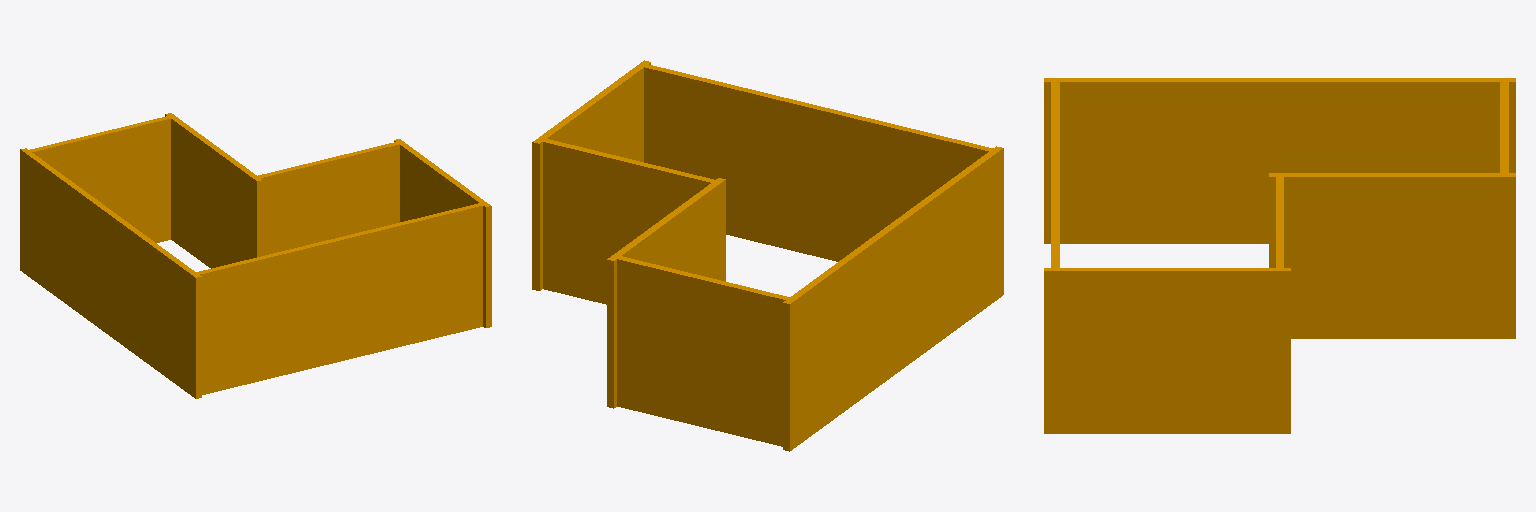
URDF robot description (ell.urdf):
<?xml version="0.0" ?>
<robot name="ell.urdf">
  <link name="baseLink">
    <contact>
      <lateral_friction value="0.3"/>
      <rolling_friction value="0.0001"/>
      <inertia_scaling value="3.0"/>
    </contact>
    <inertial>
      <origin rpy="0 0 0" xyz="0 0 0"/>
       <mass value=".1"/>
       <inertia ixx="1" ixy="0" ixz="0" iyy="1" iyz="0" izz="1"/>
    </inertial>

    <visual>
      <origin rpy="0 0 0" xyz="0.025 -0.025 0"/>
      <geometry>
        <box size=".1 .002 .04"/>
      </geometry>
      <material name="gray">
        <!-- <color rgba="0 1 0 1"/> -->
        <color rgba="0.7294117647058823, 0.6901960784313725, 0.6745098039215687 1"/>
      </material>
    </visual>
    <collision>
      <origin rpy="0 0 0" xyz="0.025 -0.025 0"/>
      <geometry>
        <box size=".1 .002 .04"/>
      </geometry>
    </collision>

    <visual>
      <origin rpy="0 0 0" xyz="0 0.075 0"/>
      <geometry>
        <box size=".05 .002 .04"/>
      </geometry>
      <material name="gray">
        <!-- <color rgba="0 1 0 1"/> -->
        <color rgba="0.7294117647058823, 0.6901960784313725, 0.6745098039215687 1"/>
      </material>
    </visual>
    <collision>
      <origin rpy="0 0 0" xyz="0 0.075 0"/>
      <geometry>
        <box size=".05 .002 .04"/>
      </geometry>
    </collision>

    <visual>
      <origin rpy="0 0 0" xyz="0.05 0.025 0"/>
      <geometry>
        <box size=".05 .002 .04"/>
      </geometry>
      <material name="gray">
        <!-- <color rgba="0 1 0 1"/> -->
        <color rgba="0.7294117647058823, 0.6901960784313725, 0.6745098039215687 1"/>
      </material>
    </visual>
    <collision>
      <origin rpy="0 0 0" xyz="0.05 0.025 0"/>
      <geometry>
        <box size=".05 .002 .04"/>
      </geometry>
    </collision>

    <visual>
      <origin rpy="0 0 0" xyz="-0.025 0.025 0"/>
      <geometry>
        <box size=".002 .105 .04"/>
      </geometry>
      <material name="gray">
        <!-- <color rgba="0 1 0 1"/> -->
        <color rgba="0.7294117647058823, 0.6901960784313725, 0.6745098039215687 1"/>
      </material>
    </visual>
    <collision>
      <origin rpy="0 0 0" xyz="-0.025 0.025 0"/>
      <geometry>
        <box size=".002 .105 .04"/>
      </geometry>
    </collision>

    <visual>
      <origin rpy="0 0 0" xyz="0.025 0.05 0"/>
      <geometry>
        <box size=".002 .055 .04"/>
      </geometry>
      <material name="gray">
        <!-- <color rgba="0 1 0 1"/> -->
        <color rgba="0.7294117647058823, 0.6901960784313725, 0.6745098039215687 1"/>
      </material>
    </visual>
    <collision>
      <origin rpy="0 0 0" xyz="0.025 0.05 0"/>
      <geometry>
        <box size=".002 .055 .04"/>
      </geometry>
    </collision>

    <visual>
      <origin rpy="0 0 0" xyz="0.075 0 0"/>
      <geometry>
        <box size=".002 .055 .04"/>
      </geometry>
      <material name="gray">
        <!-- <color rgba="0 1 0 1"/> -->
        <color rgba="0.7294117647058823, 0.6901960784313725, 0.6745098039215687 1"/>
      </material>
    </visual>
    <collision>
      <origin rpy="0 0 0" xyz="0.075 0 0"/>
      <geometry>
        <box size=".002 .055 .04"/>
      </geometry>
    </collision>

    <visual>
      <origin rpy="0 0 0" xyz="0.075 0 0"/>
      <geometry>
        <box size=".002 .055 .04"/>
      </geometry>
      <material name="gray">
        <!-- <color rgba="0 1 0 1"/> -->
        <color rgba="0.7294117647058823, 0.6901960784313725, 0.6745098039215687 1"/>
      </material>
    </visual>

    <collision>
      <origin rpy="0 0 0" xyz="0 0 -0.02"/>
      <geometry>
        <box size=".02 .02 .001"/>
      </geometry>
    </collision>

  </link>
</robot>

--- Render facts (derived) ---
Views: 3 orthographic renders of the robot side by side, from view 1: azimuth 30°, elevation 25°; view 2: azimuth 150°, elevation 25°; view 3: azimuth 270°, elevation 25°.
Model ell.urdf with 1 links and 0 joints (none), rooted at baseLink, posed all joints at 0.
Links seen in each view (by area): view 1: baseLink; view 2: baseLink; view 3: baseLink.
Boxes of the visible links, <box> form: baseLink: <box>20,113,491,398</box>; baseLink: <box>532,60,1003,451</box>; baseLink: <box>1044,78,1515,433</box>.
Bounding box of the posed robot: 0.102 × 0.105 × 0.04 m (x, y, z).
Geometry: primitives only (box / cylinder / sphere), no mesh files.